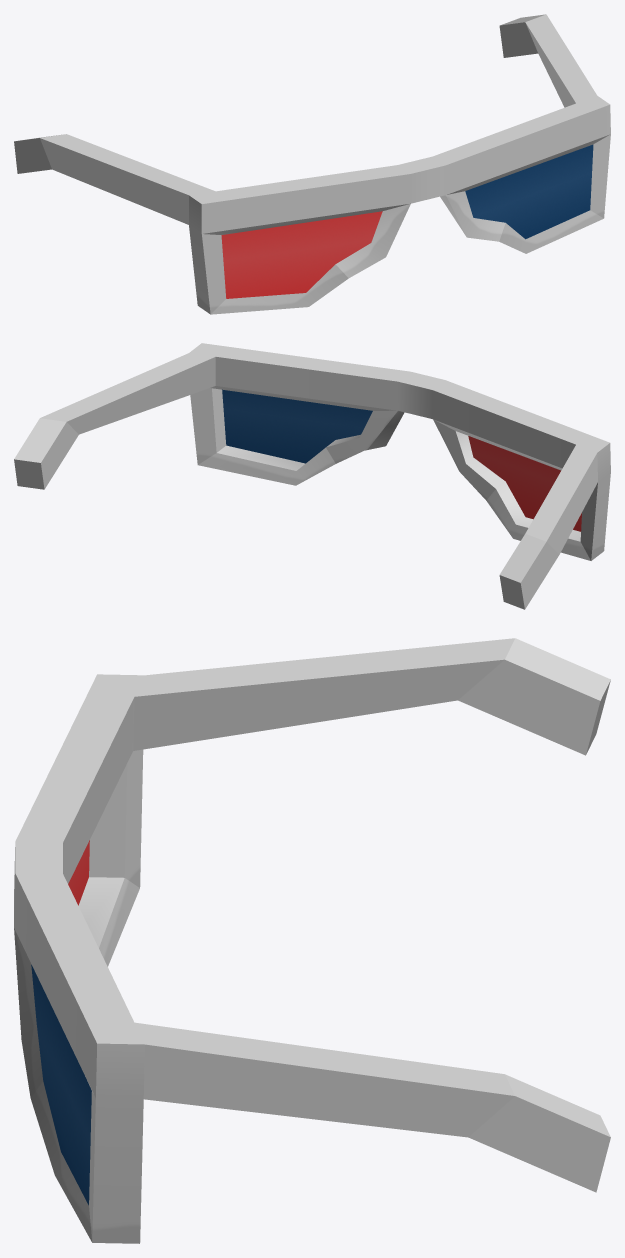
File: hat_3dglasses.fbx
3 views of the same model, one above another, from view 1: azimuth 30°, elevation 25°; view 2: azimuth 150°, elevation 25°; view 3: azimuth 270°, elevation 25° (orthographic). The views are drawn at different scales.
Visible parts, largest first — view 1: Glasses_OBJ; view 2: Glasses_OBJ; view 3: Glasses_OBJ.
Part boxes in pixels (x1,y1,x2,y2): Glasses_OBJ: [14, 14, 610, 314]; Glasses_OBJ: [14, 343, 610, 609]; Glasses_OBJ: [14, 638, 610, 1243].
Bounding box in the file's own units: 2.11 × 0.4727 × 1.16.
